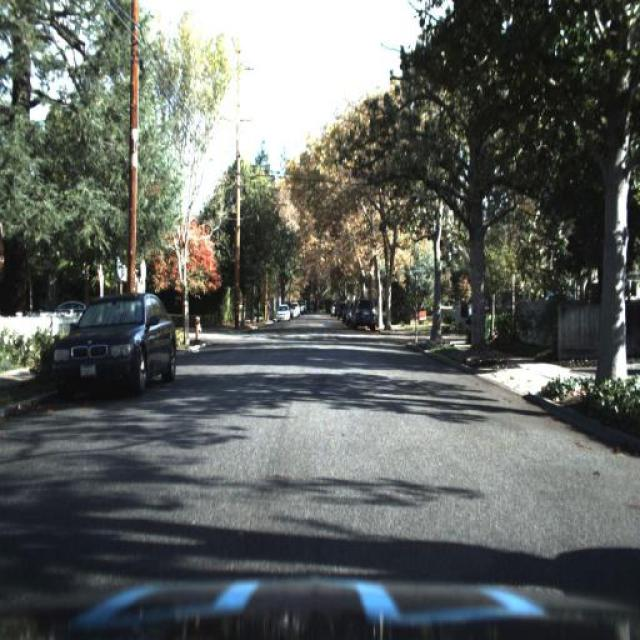car: (49, 293, 180, 383), (272, 301, 292, 321)
